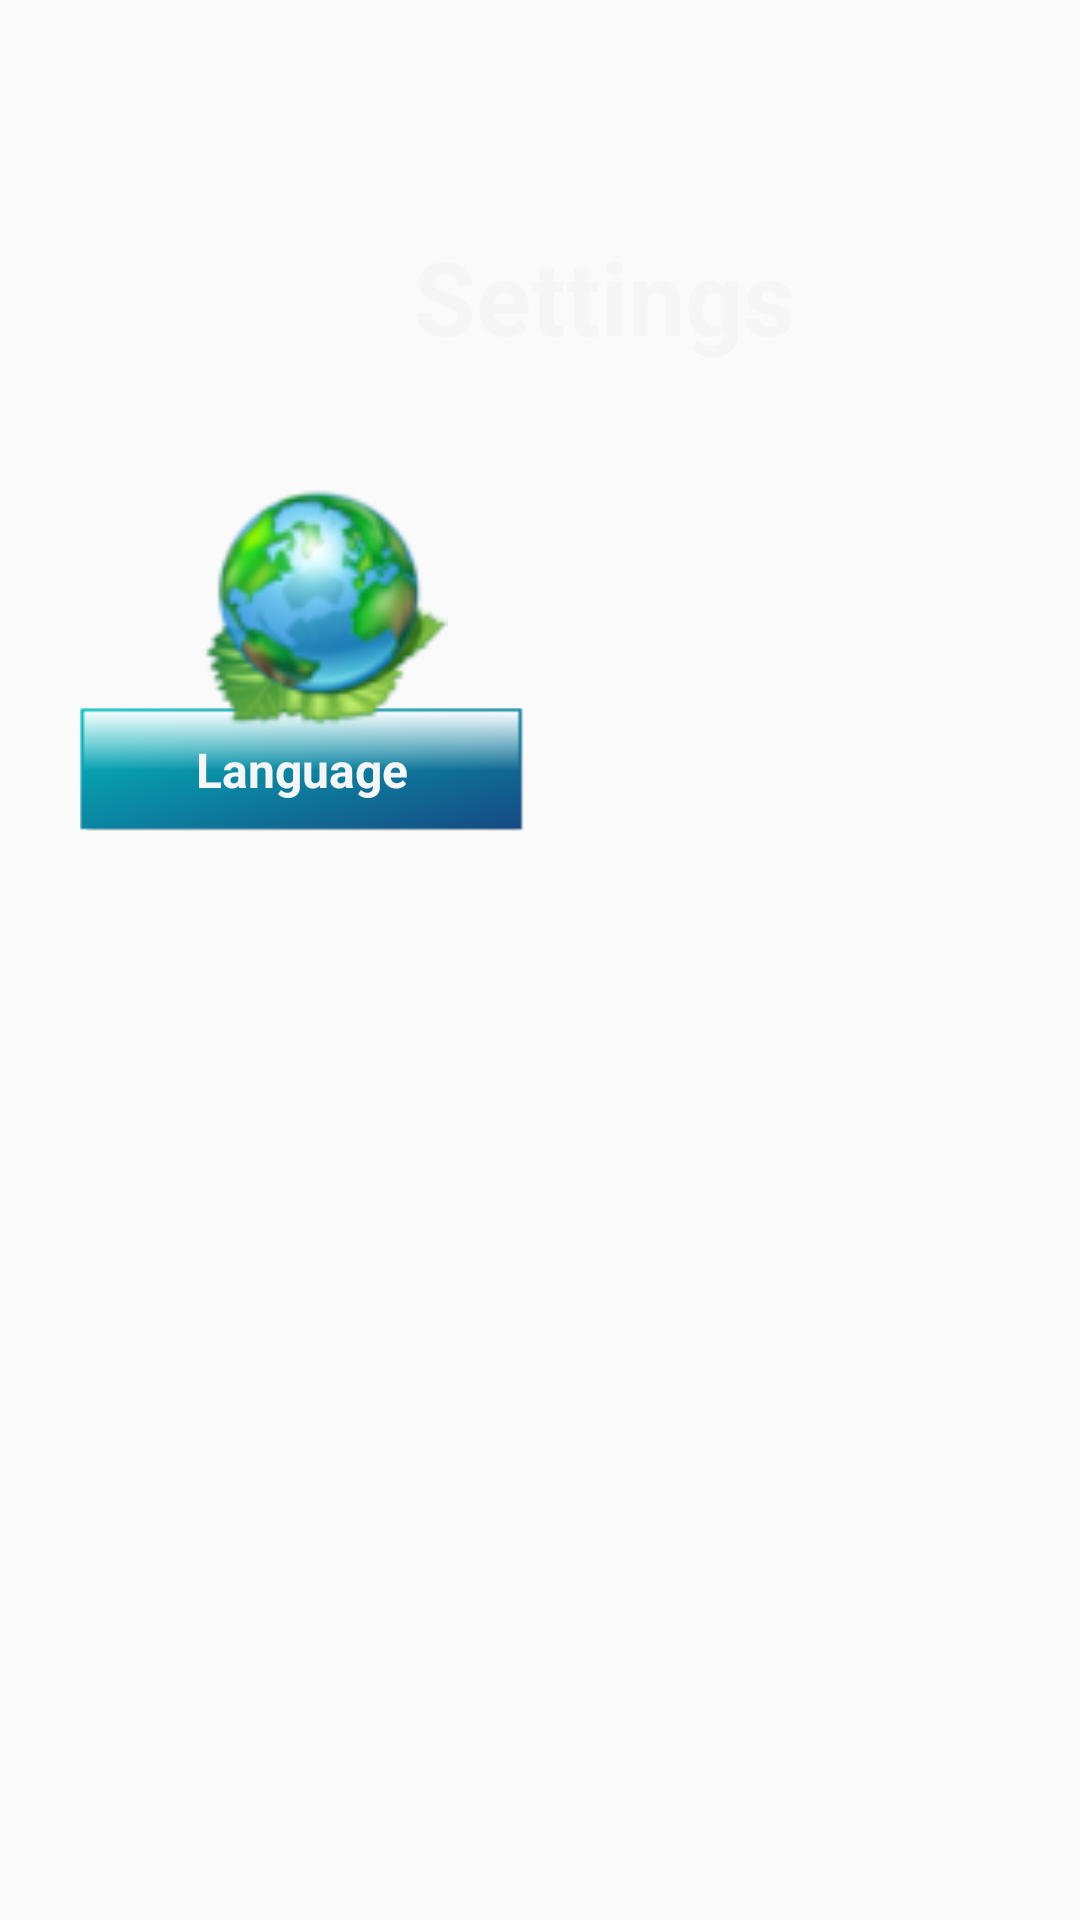

Icon bounding boxes for this 1080 × 1920 phone screenshot, format (x1, y1, x2, y2):
eco friendly: (176, 491, 449, 750)
